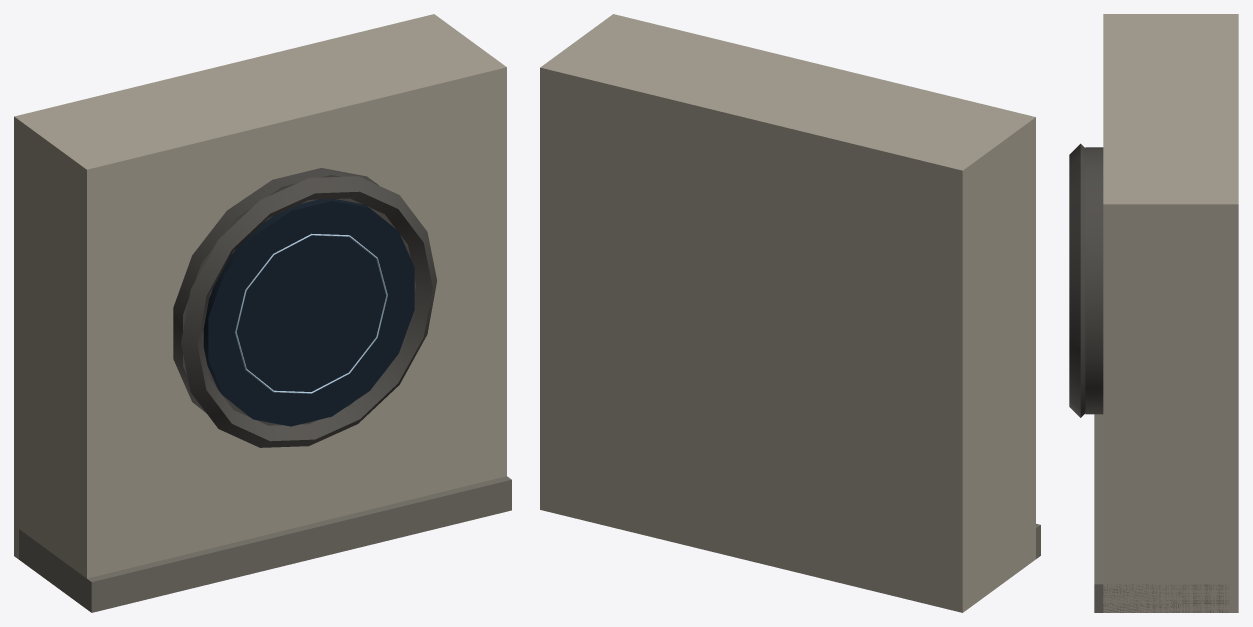
File: civilian_wall_port.glb
3 views of the same model, side by side, from view 1: azimuth 30°, elevation 25°; view 2: azimuth 150°, elevation 25°; view 3: azimuth 270°, elevation 25° (orthographic). The views are drawn at different scales.
Visible parts, largest first — view 1: civilian_wall_port; view 2: civilian_wall_port; view 3: civilian_wall_port.
Boxes of the visible parts, <box> form: civilian_wall_port: <box>14,14,511,612</box>; civilian_wall_port: <box>540,14,1040,612</box>; civilian_wall_port: <box>1069,14,1238,612</box>.
Bounding box in the file's own units: 1 × 1 × 0.375.
